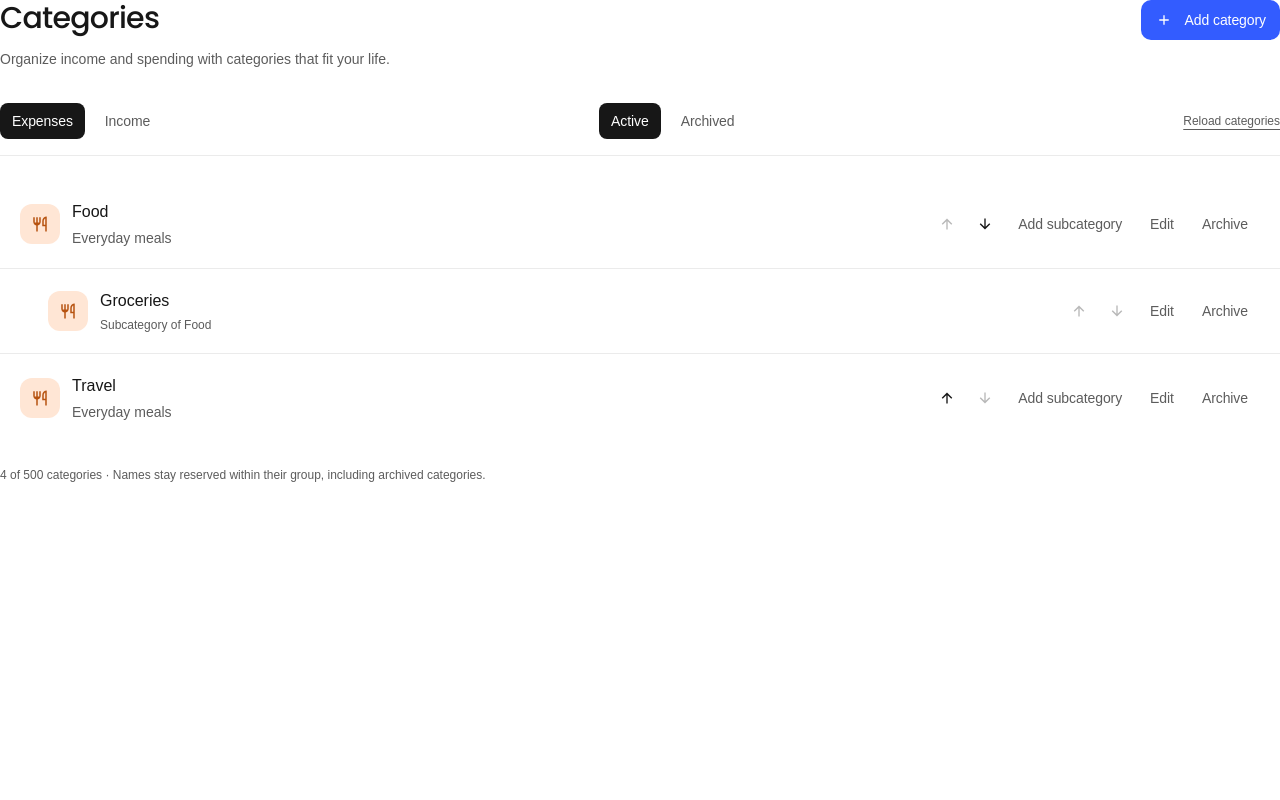
Scenario: reorders siblings and locks category type and parent nesting when editing a branch
This screenshot has width=1280, height=800.
Expected: the button named "Move Food up" is disabled, [930,207,964,241]
Click the button named "Move Travel up".
click(947, 398)  # box [930,381,964,415]
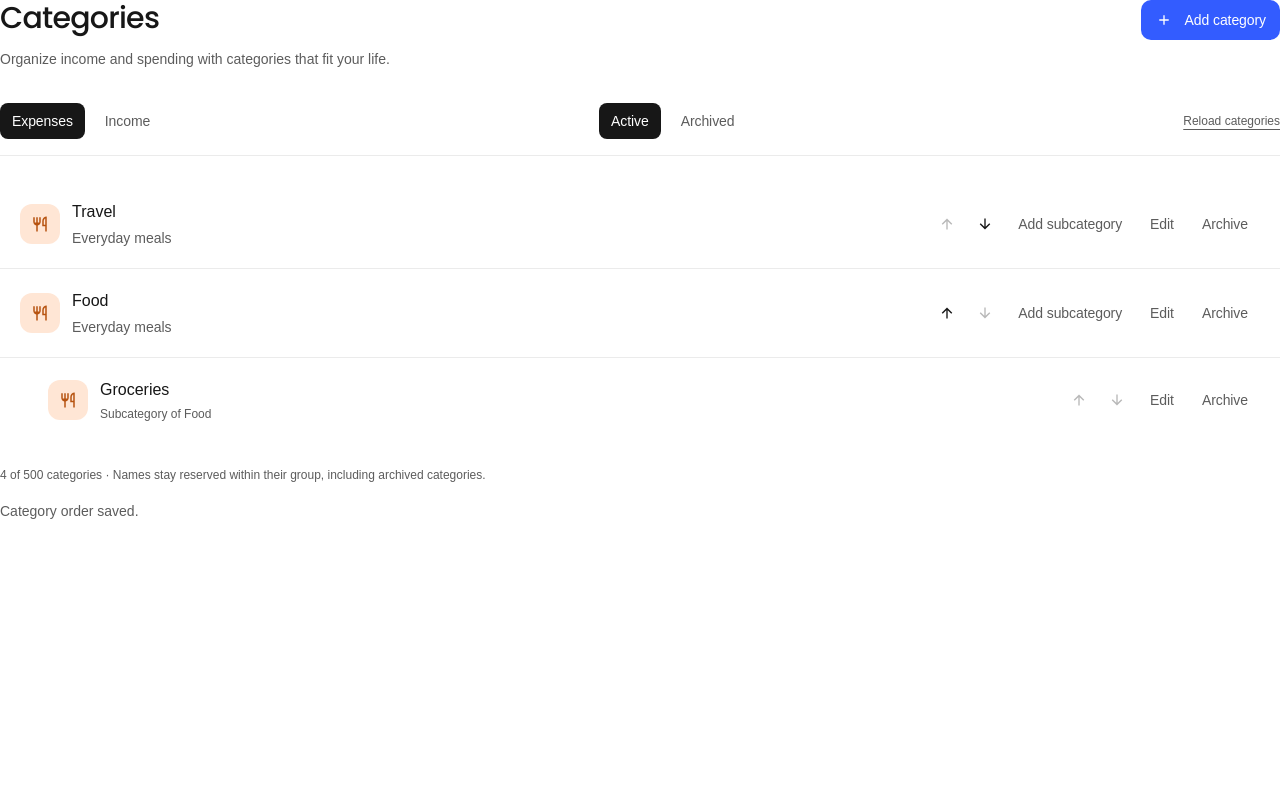
Now the headings read "Travel", "Food", "Groceries", in this order, box [72,203,116,220]; [72,292,108,309]; [100,381,169,398]
Click the button with aria-label "Edit Food".
click(1162, 313)  # box [1138,295,1186,331]
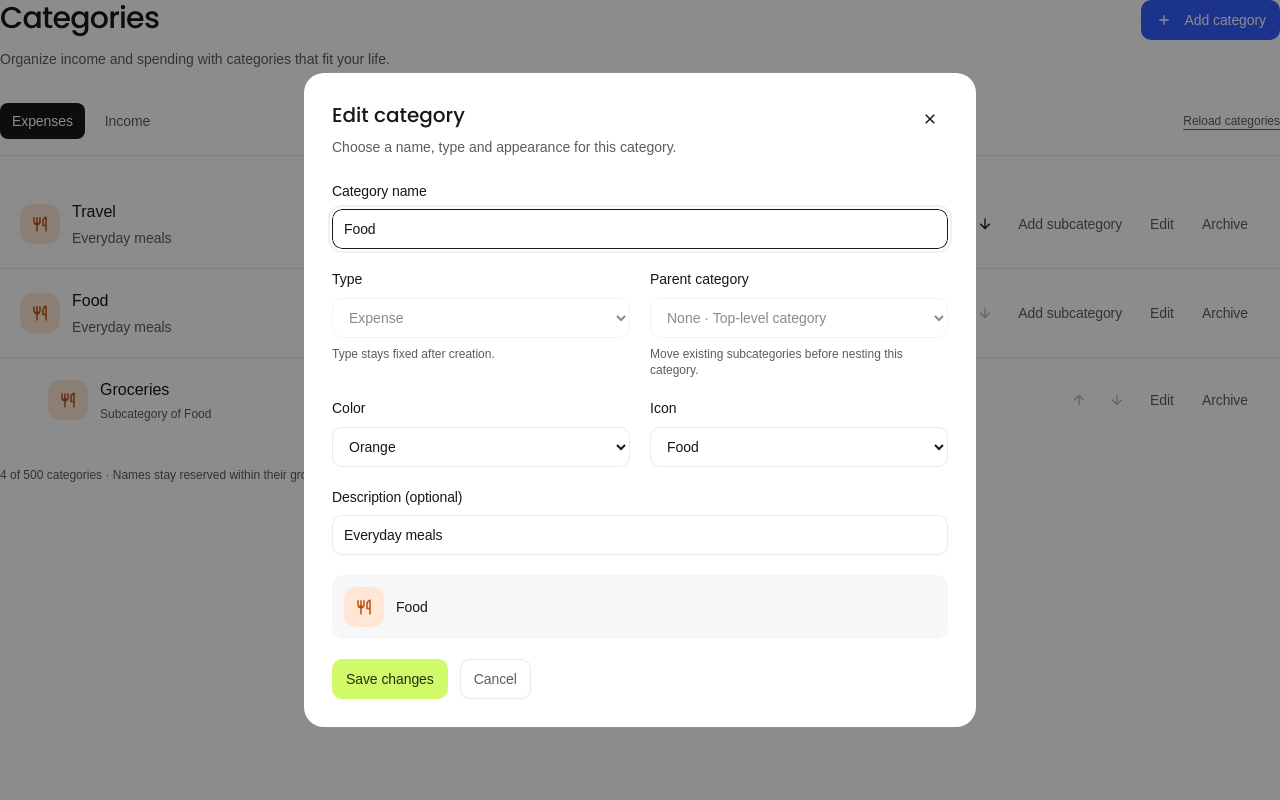
Now the dropdown labelled "Type" is disabled, box [332,298,630,338]
Now the dropdown labelled "Parent category" is disabled, box [650,298,948,338]
Press Escape
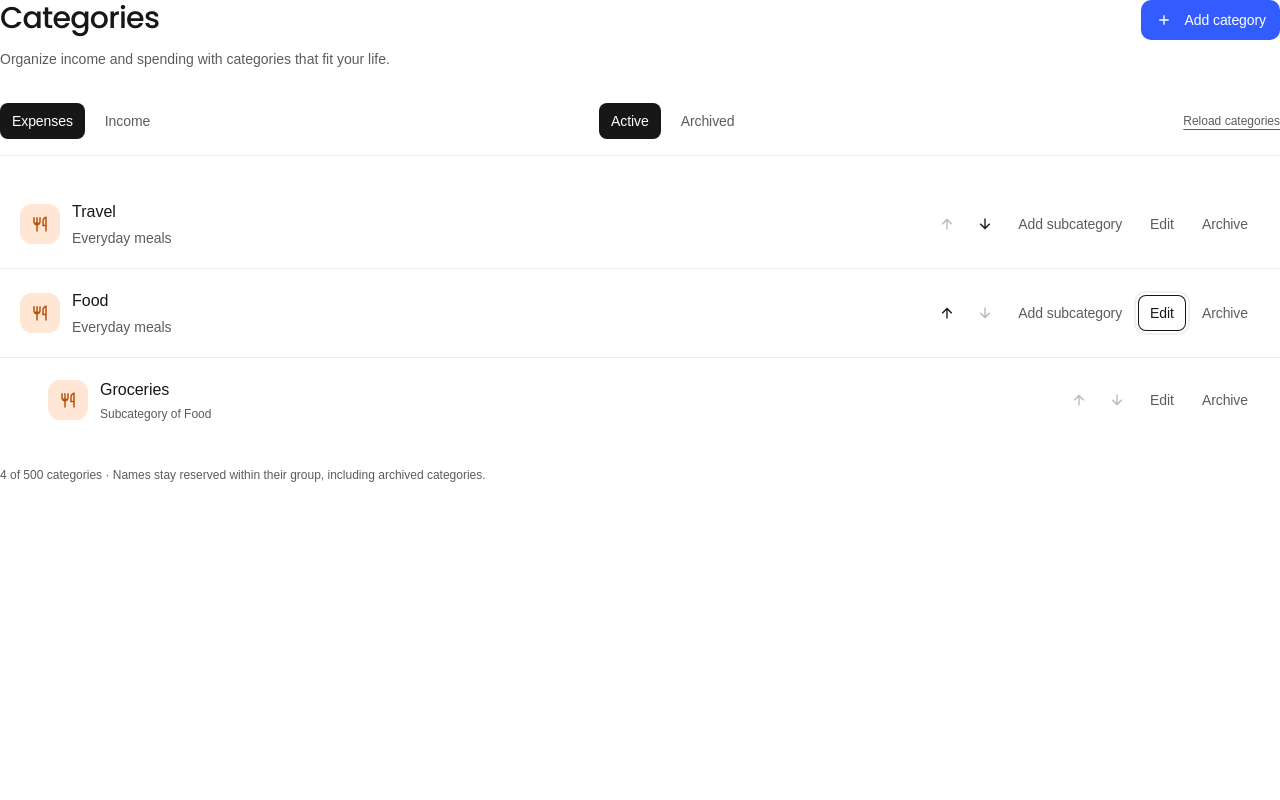
Click the button with aria-label "Add subcategory to Food".
click(1070, 313)  # box [1006,295,1134,331]
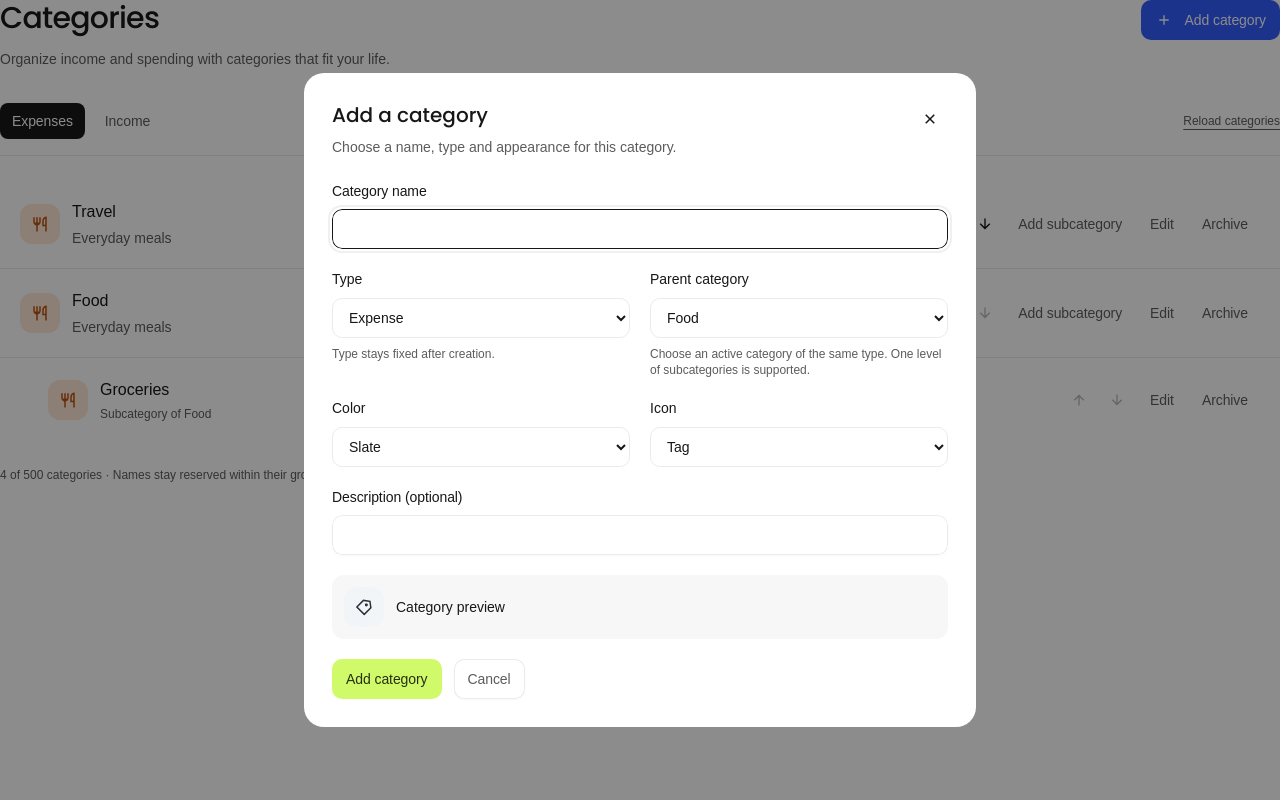
Now the dropdown labelled "Parent category" shows "Food", box [650,298,948,338]
